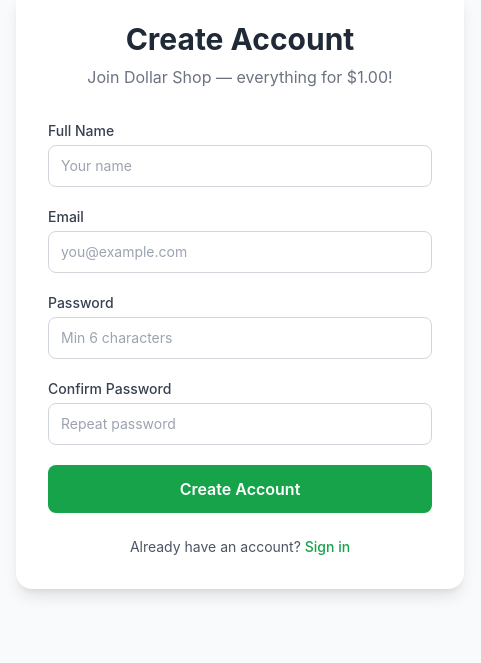
RegisterPage › shows error when name is empty
This screenshot has width=481, height=663.
Step 1. Click the button "Create Account" → (240, 489), box x1=48 y1=465 x2=432 y2=513
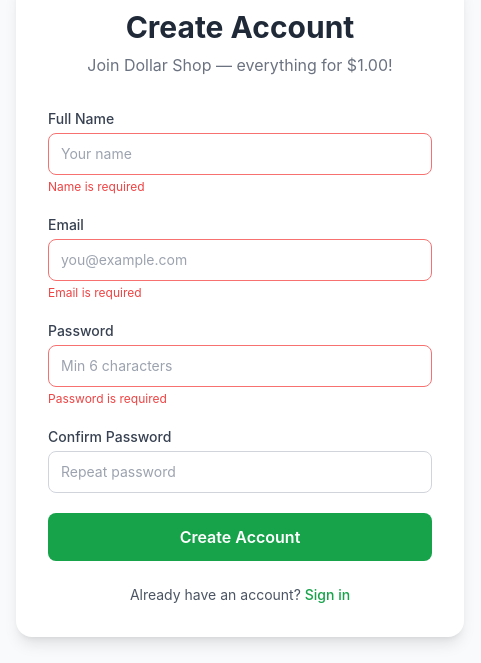
Expected: the text "Name is required" is shown, x1=48 y1=179 x2=145 y2=194
